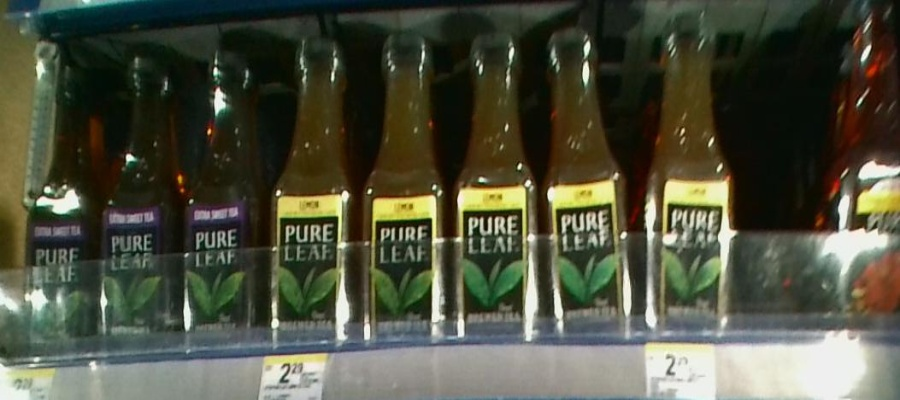bottle: (544, 16, 641, 362), (450, 18, 544, 355), (645, 8, 732, 356), (357, 30, 448, 355), (268, 34, 354, 347), (179, 38, 264, 354), (98, 46, 179, 354), (838, 4, 900, 331), (29, 65, 97, 355)
